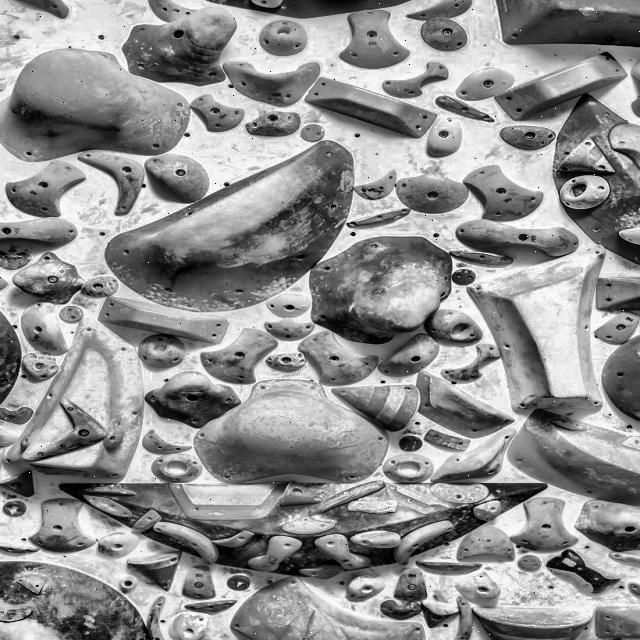Hold: (310, 236, 452, 344), (123, 7, 236, 85), (416, 371, 514, 438), (23, 399, 107, 463), (146, 372, 240, 427), (457, 220, 578, 258), (6, 160, 85, 218), (78, 150, 145, 216), (169, 482, 285, 520), (223, 61, 318, 107), (465, 165, 543, 221), (201, 328, 278, 383), (300, 330, 376, 385), (332, 384, 420, 430), (472, 608, 594, 640), (341, 10, 407, 69), (13, 252, 83, 305), (513, 495, 578, 552), (435, 433, 512, 481), (30, 498, 94, 553), (577, 501, 640, 552), (147, 153, 210, 203), (548, 549, 618, 592), (396, 173, 468, 213), (152, 520, 219, 562), (379, 332, 439, 377), (393, 521, 453, 565), (21, 303, 71, 352), (441, 341, 499, 383), (382, 62, 448, 98), (311, 482, 382, 515), (0, 217, 77, 246), (557, 137, 614, 175), (126, 551, 181, 590), (425, 307, 482, 344), (457, 523, 515, 559), (314, 533, 370, 570), (248, 534, 301, 572), (191, 95, 244, 132), (386, 485, 450, 514), (459, 67, 512, 101), (560, 174, 610, 210), (260, 19, 307, 56), (138, 333, 186, 369), (421, 17, 468, 52), (151, 451, 201, 483), (436, 95, 494, 122), (383, 453, 433, 484), (266, 283, 311, 317), (500, 124, 555, 151), (246, 110, 301, 137), (428, 482, 489, 506), (427, 117, 463, 157), (609, 123, 640, 169), (595, 312, 638, 345), (459, 573, 502, 604), (347, 208, 411, 228), (410, 0, 472, 20), (354, 171, 396, 200), (96, 528, 138, 556), (142, 430, 188, 455), (84, 495, 133, 518), (395, 566, 427, 601), (22, 351, 60, 380), (282, 515, 334, 536), (181, 567, 215, 599), (172, 610, 208, 640), (422, 598, 458, 628), (148, 595, 171, 640), (265, 319, 314, 340), (353, 529, 399, 551), (424, 429, 469, 451), (148, 0, 192, 22), (15, 0, 68, 18), (347, 496, 397, 515), (453, 596, 474, 640), (449, 251, 513, 265), (82, 274, 119, 298), (0, 471, 34, 497), (418, 559, 481, 573), (280, 483, 318, 506), (380, 599, 421, 620), (347, 575, 381, 600), (265, 353, 307, 372), (104, 418, 126, 451), (133, 509, 162, 533), (215, 530, 255, 547), (0, 406, 33, 426), (299, 564, 343, 579), (187, 599, 236, 612), (84, 484, 133, 497), (473, 500, 501, 522), (17, 574, 46, 595), (30, 465, 88, 475), (0, 251, 30, 270), (0, 606, 31, 623), (0, 541, 37, 555), (300, 122, 325, 142), (608, 551, 640, 566), (548, 419, 587, 431), (0, 420, 17, 447), (59, 305, 82, 324), (118, 573, 139, 593), (4, 499, 27, 517), (517, 554, 541, 571), (620, 225, 640, 245), (452, 268, 475, 285), (227, 574, 250, 591), (399, 436, 423, 452), (20, 435, 33, 452), (0, 71, 7, 93), (0, 275, 9, 291)
Macro: (106, 141, 354, 312), (470, 248, 604, 414), (0, 49, 190, 161), (194, 380, 389, 483), (507, 408, 640, 507), (230, 577, 422, 640), (496, 53, 626, 120), (305, 77, 436, 137), (496, 0, 640, 47), (100, 296, 229, 343), (596, 278, 640, 312), (595, 607, 640, 639)
Volume: (61, 484, 546, 575), (1, 317, 144, 478), (553, 95, 640, 264), (0, 562, 147, 640)
